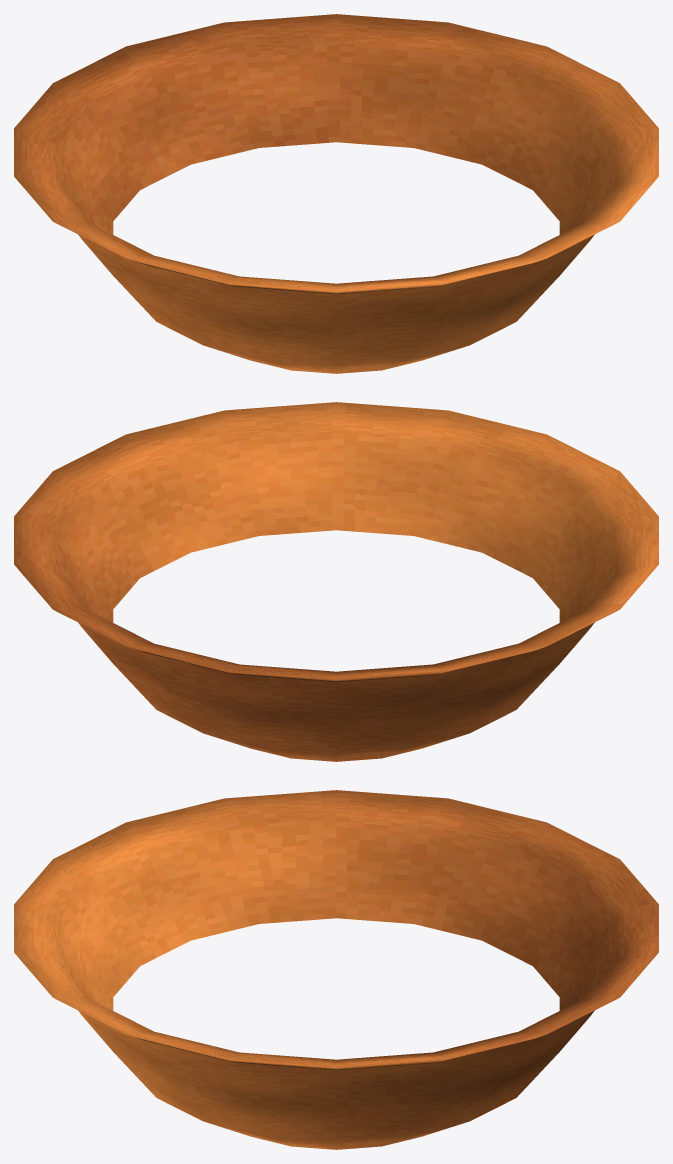
File: paila_cobre_fogon.glb
3 renders of one model, top to bottom at view 1: azimuth 30°, elevation 25°; view 2: azimuth 150°, elevation 25°; view 3: azimuth 270°, elevation 25°, orthographic.
Parts seen in each view (by area): view 1: paila_cobre_fogon; view 2: paila_cobre_fogon; view 3: paila_cobre_fogon.
Part boxes in pixels (bbox=[...]): paila_cobre_fogon: bbox=[14, 14, 658, 373]; paila_cobre_fogon: bbox=[14, 402, 658, 761]; paila_cobre_fogon: bbox=[14, 790, 658, 1149].
Size of the model in its own units: 2.08 by 0.62 by 2.05.
Materials: 1 (1 with a texture image).
